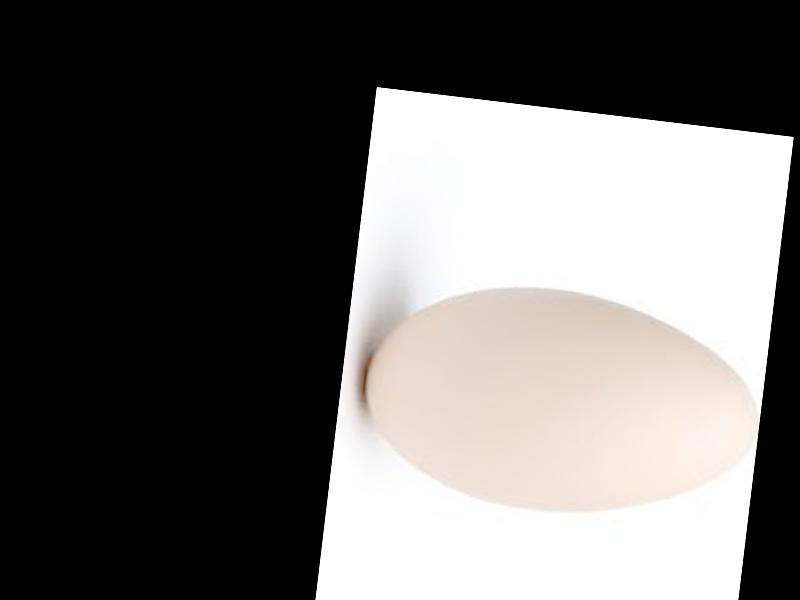Eggs: (351, 268, 769, 533)
